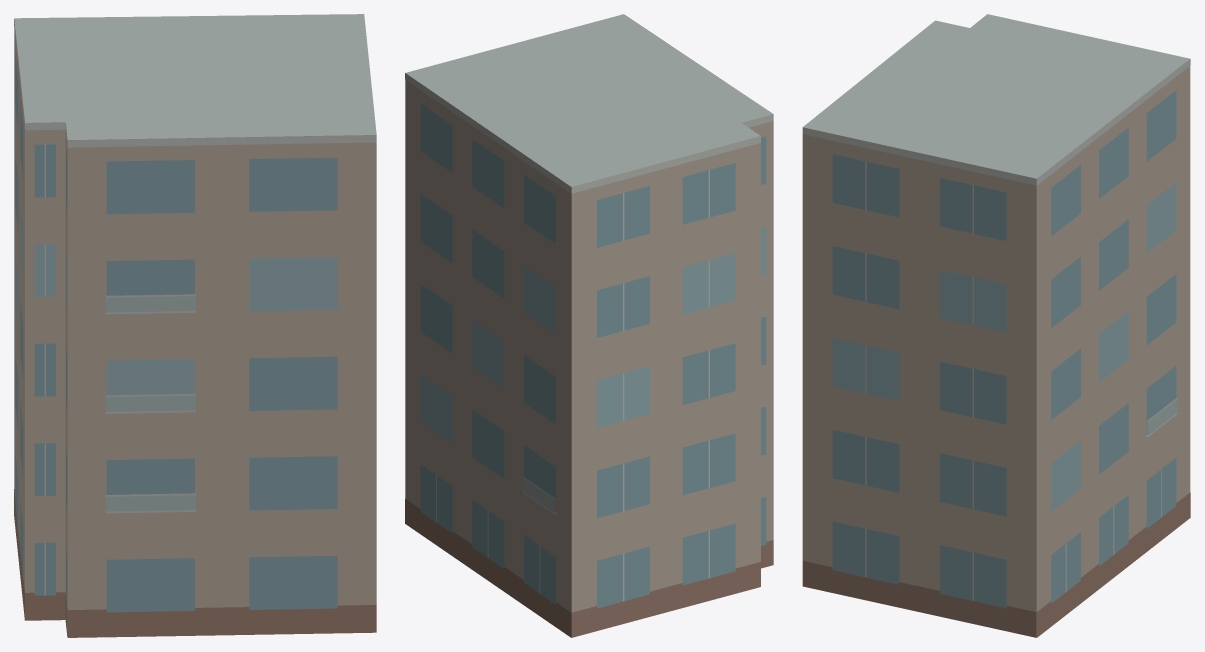
Rendered from survey-upis-33016163.glb.
3 views of the same model, side by side, from view 1: azimuth 30°, elevation 25°; view 2: azimuth 150°, elevation 25°; view 3: azimuth 270°, elevation 25° (orthographic). The views are drawn at different scales.
Parts seen in each view (by area): view 1: survey-upis-33016163.tmp; view 2: survey-upis-33016163.tmp; view 3: survey-upis-33016163.tmp.
Part boxes in pixels (bbox=[...]): survey-upis-33016163.tmp: bbox=[14, 14, 376, 637]; survey-upis-33016163.tmp: bbox=[405, 14, 773, 637]; survey-upis-33016163.tmp: bbox=[802, 14, 1190, 637].
Bounding box in the file's own units: 12.47 × 16.2 × 12.41.
